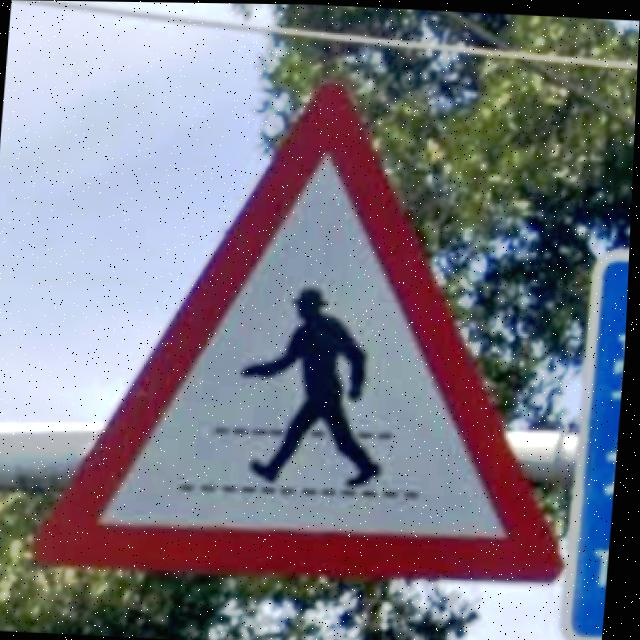pedestriancross: (37, 83, 568, 578)
